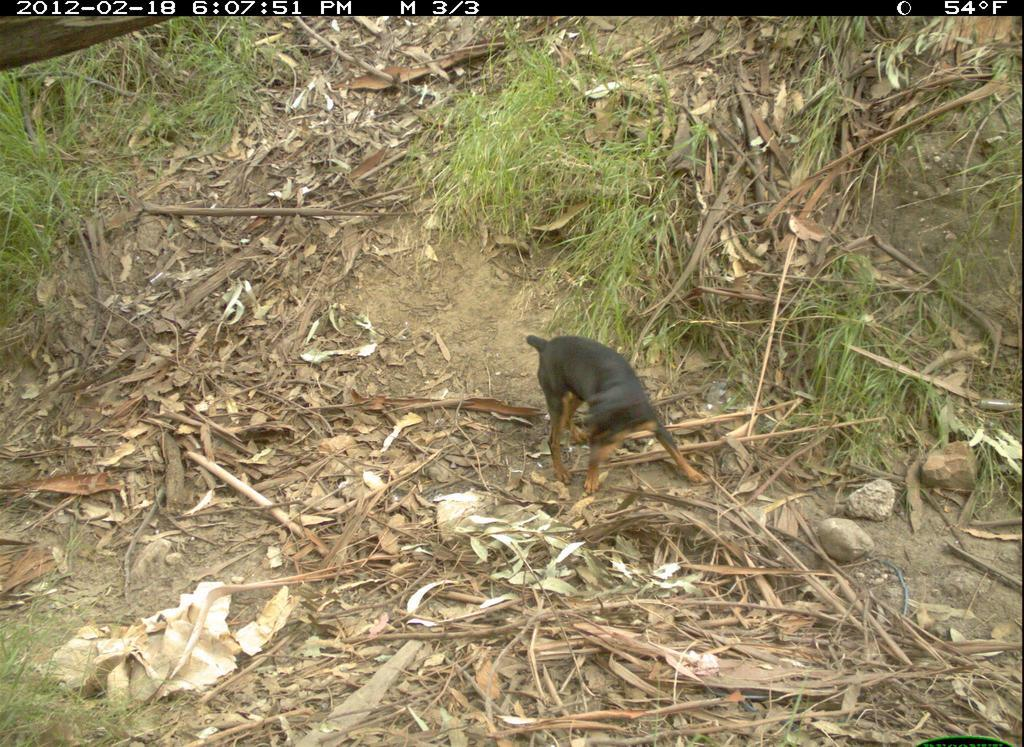dog: (523, 331, 713, 502)
